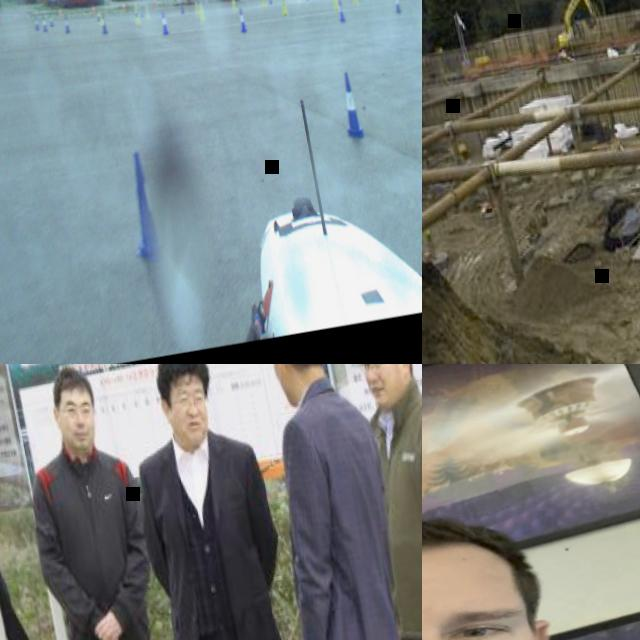NO-Hardhat: (422, 499, 529, 617), (46, 364, 91, 399), (151, 364, 207, 387)
NO-Mask: (172, 410, 210, 446), (61, 420, 98, 456), (271, 364, 297, 406), (370, 375, 404, 406)
NO-Safety Vest: (283, 386, 412, 640), (143, 434, 282, 640), (39, 449, 150, 640), (366, 399, 422, 640)
Person: (114, 364, 332, 640), (5, 364, 205, 640), (245, 364, 422, 640), (422, 462, 640, 640), (340, 364, 422, 640)
Safety Cone: (118, 148, 168, 266), (335, 68, 365, 138), (236, 5, 248, 32), (158, 10, 170, 35), (61, 9, 71, 34), (98, 12, 109, 34), (335, 0, 345, 21), (40, 11, 49, 32), (132, 2, 140, 24), (32, 12, 40, 32), (197, 2, 205, 21), (391, 0, 401, 12), (280, 0, 288, 14), (142, 3, 150, 17), (47, 11, 54, 26), (56, 4, 63, 17), (178, 0, 185, 13), (96, 9, 102, 24), (138, 3, 144, 17), (12, 9, 18, 22), (192, 0, 198, 13), (90, 2, 96, 14), (120, 0, 126, 11), (95, 8, 100, 21), (331, 0, 338, 8), (230, 0, 236, 9), (350, 0, 358, 4), (260, 0, 266, 5), (266, 0, 272, 4), (295, 0, 300, 3)
vehicle: (549, 0, 602, 51), (470, 40, 491, 68)
